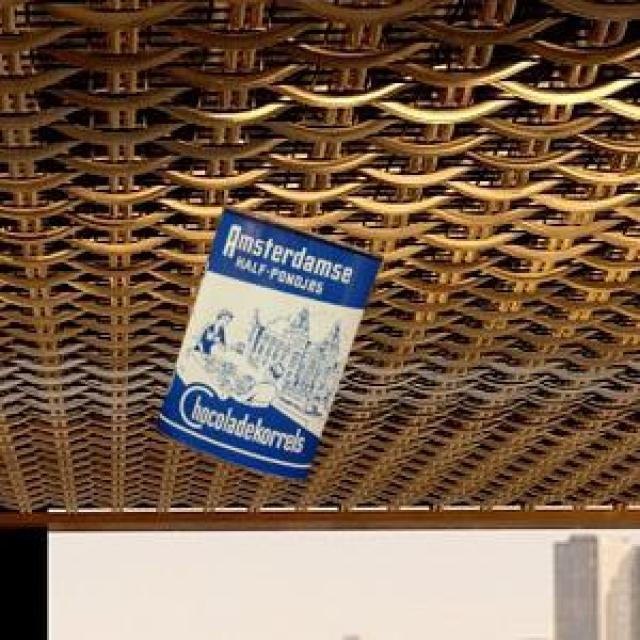Can: (153, 202, 379, 479)
